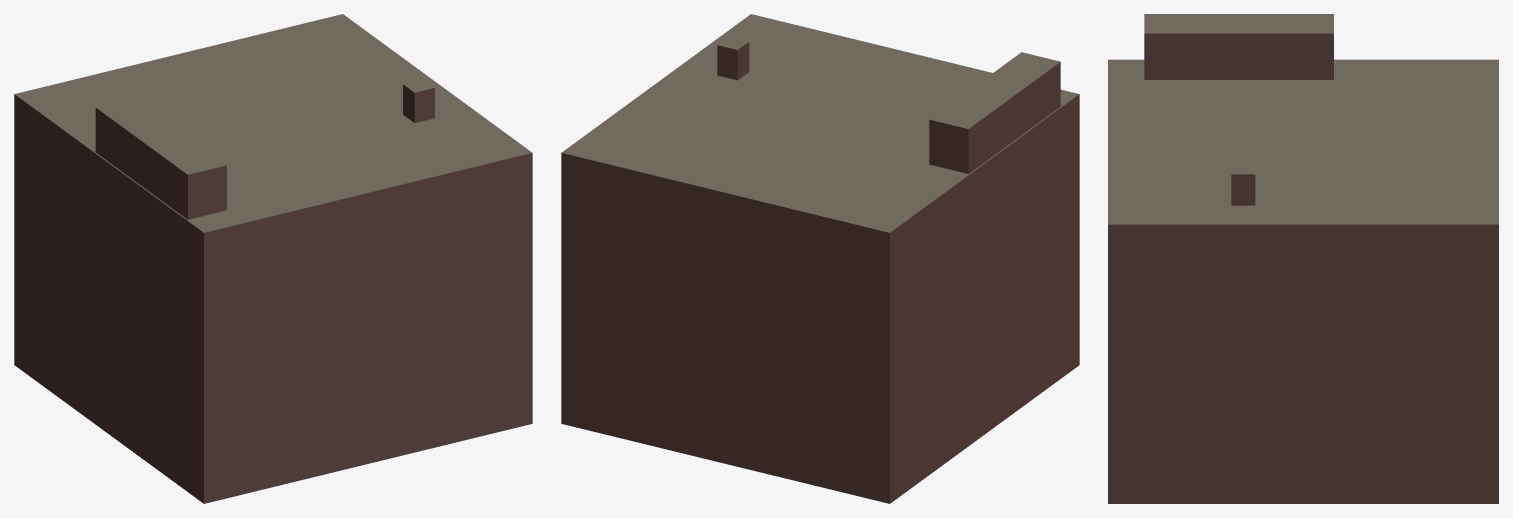
The model's file is mh-corner-tavern.far-facades-v3.lod2.glb.
3 renders of one model, left to right at view 1: azimuth 30°, elevation 25°; view 2: azimuth 150°, elevation 25°; view 3: azimuth 270°, elevation 25°, orthographic. The views are drawn at different scales.
Parts seen in each view (by area): view 1: mh-corner-tavern; view 2: mh-corner-tavern; view 3: mh-corner-tavern.
Boxes of the visible parts, <box> form: mh-corner-tavern: <box>14,14,532,503</box>; mh-corner-tavern: <box>561,14,1079,503</box>; mh-corner-tavern: <box>1108,14,1498,503</box>.
Bounding box in the file's own units: 13 × 11.95 × 13.
